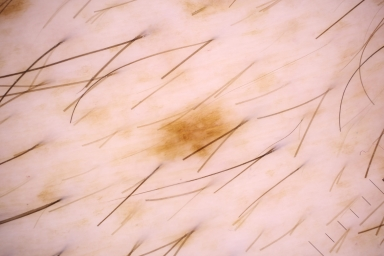melanoma: (153, 111, 222, 158)
